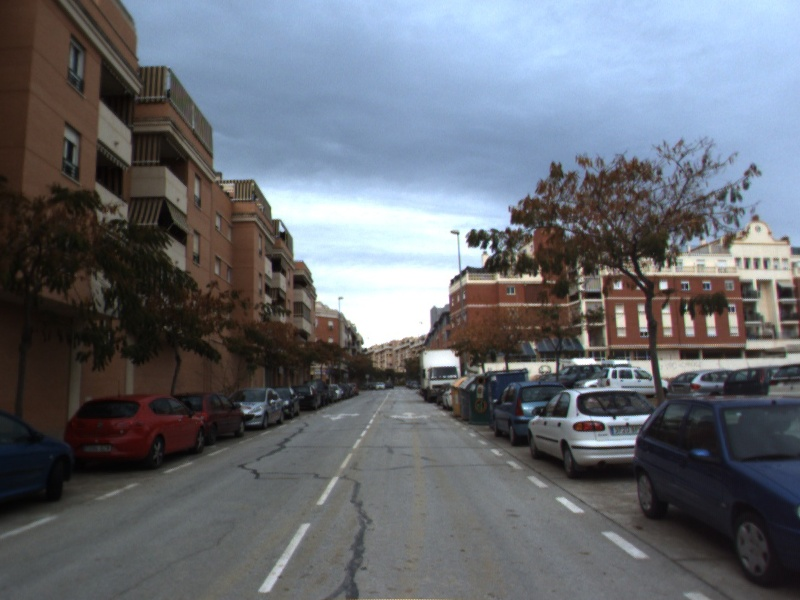STRAIGHT_LEFT_RIGHT: (388, 410, 433, 422)
